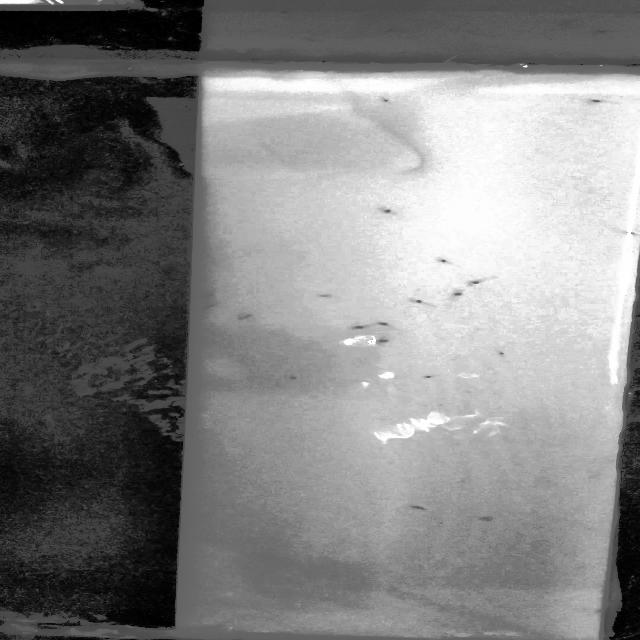shrimp: (578, 96, 628, 108), (422, 254, 457, 265), (440, 289, 476, 299), (470, 512, 498, 524), (374, 204, 396, 219), (316, 290, 338, 305), (399, 295, 428, 306), (196, 304, 229, 313), (465, 278, 488, 290), (371, 94, 395, 105), (405, 503, 433, 512), (372, 317, 392, 329), (286, 374, 304, 384), (491, 348, 508, 357), (354, 326, 373, 334), (425, 376, 443, 383)
